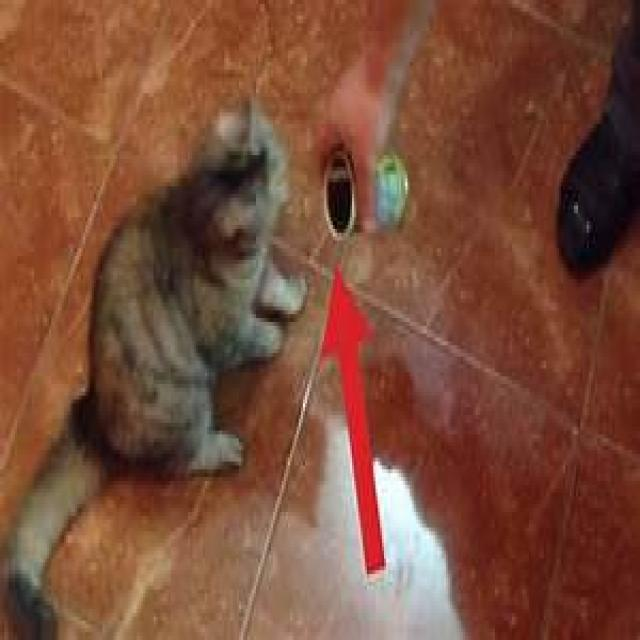animal: (6, 93, 308, 617)
